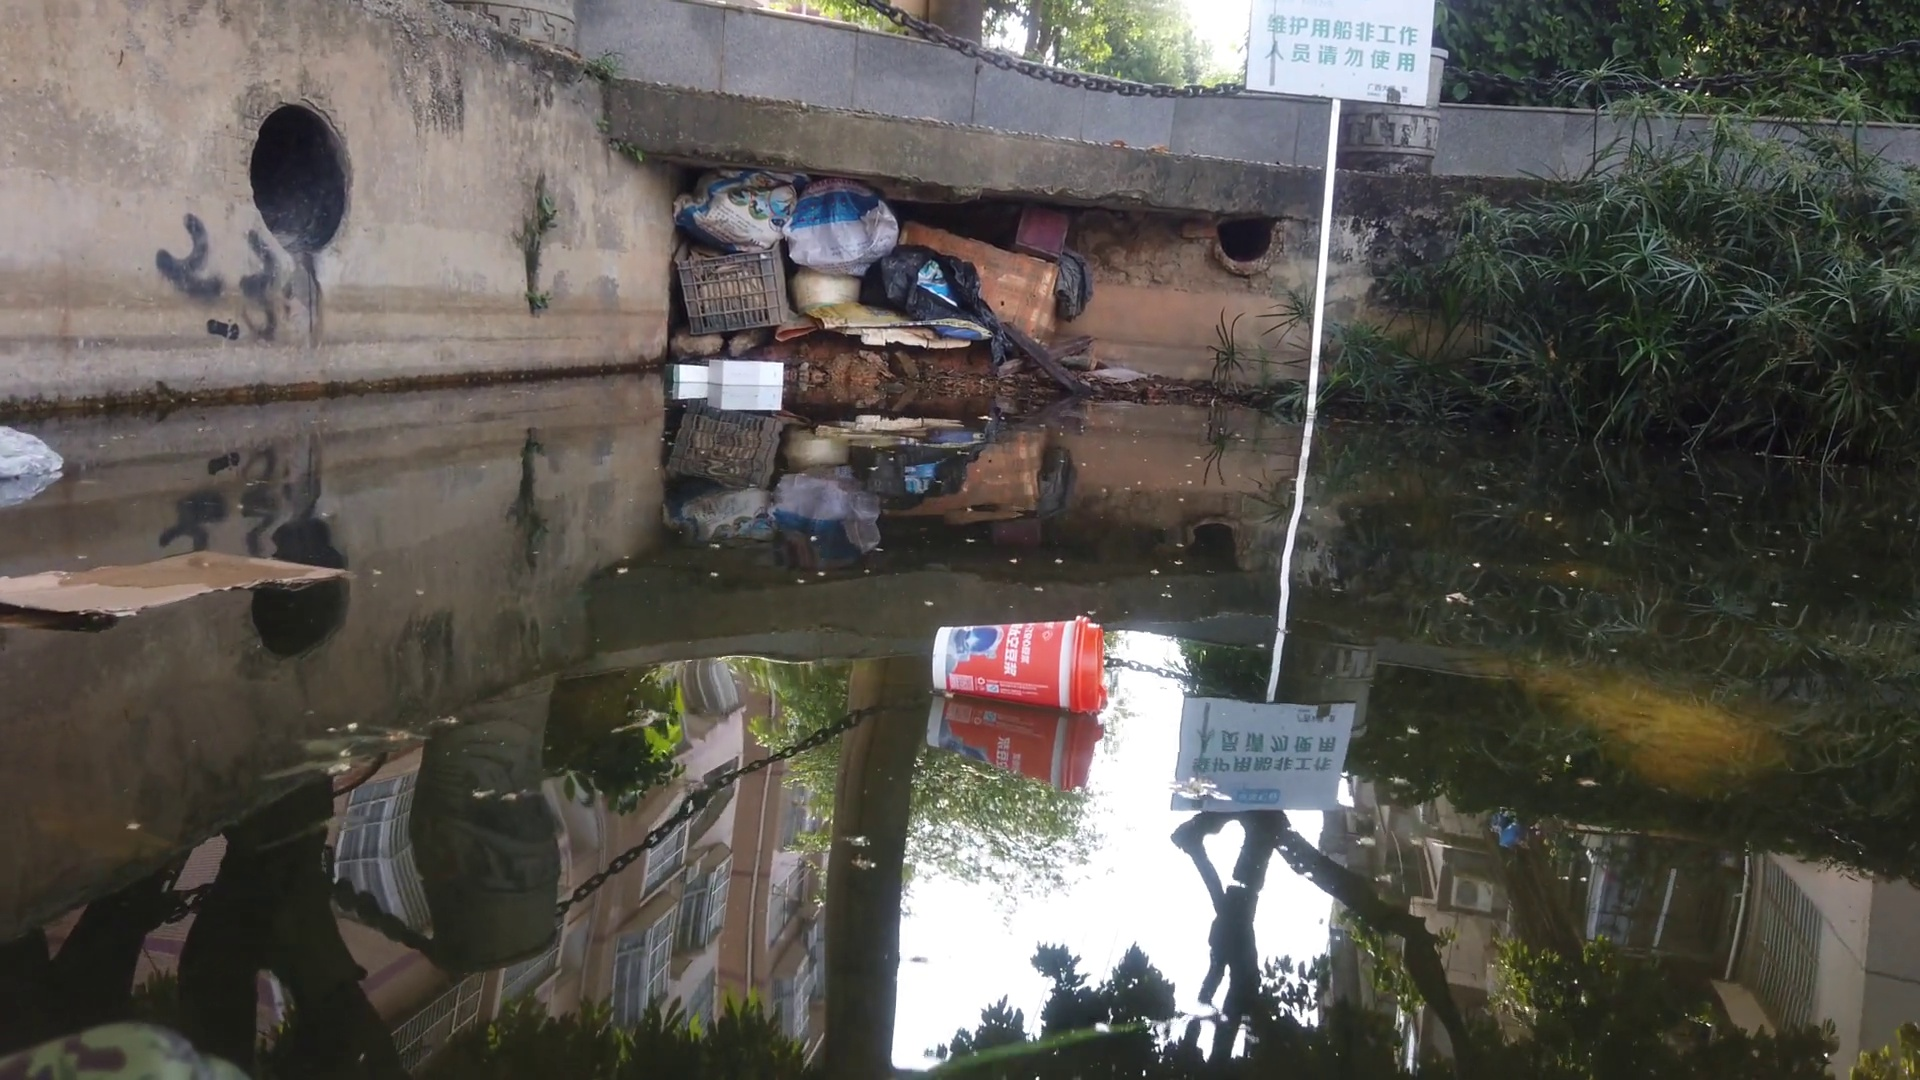bottle: (928, 615, 1110, 713)
carton: (708, 357, 785, 388), (670, 363, 709, 382)
paper: (3, 547, 365, 617)
plastic: (3, 423, 67, 483)
